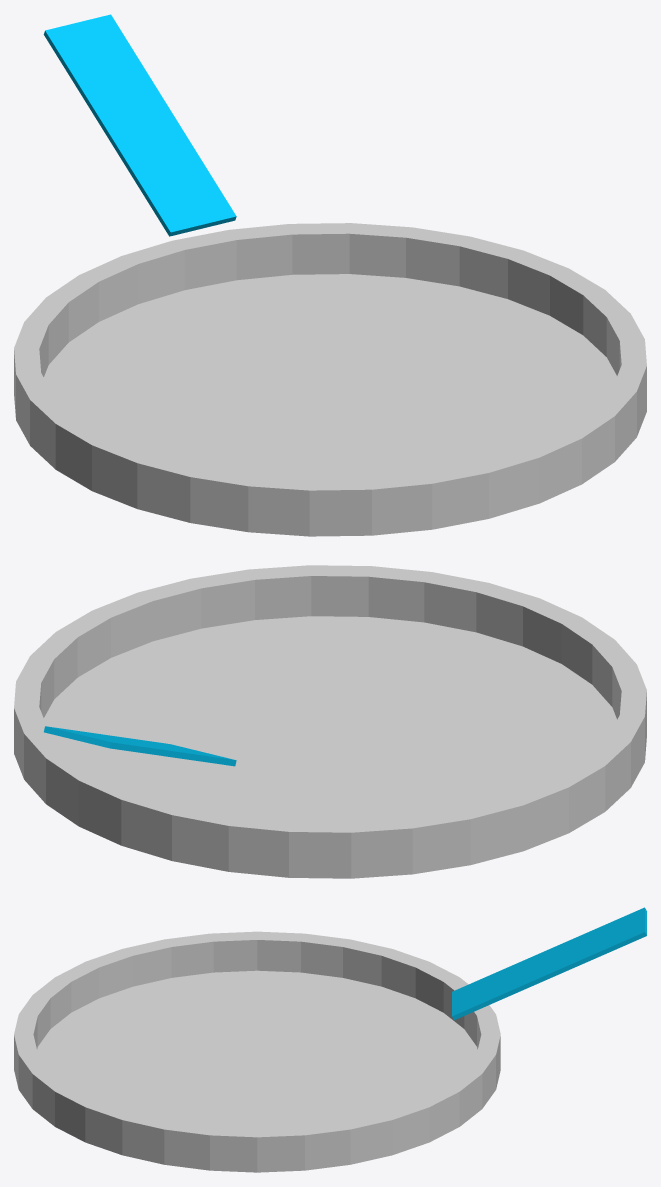
The model's file is kids_playground_detailed.glb.
The picture shows the model from 3 angles, top to bottom: view 1: azimuth 30°, elevation 25°; view 2: azimuth 150°, elevation 25°; view 3: azimuth 270°, elevation 25°; orthographic projection. The views are drawn at different scales.
Visible parts, largest first — view 1: Cylinder, Cube; view 2: Cylinder, Cube; view 3: Cylinder, Cube.
Part boxes in pixels (bbox=[...]): Cylinder: bbox=[14, 223, 646, 536]; Cube: bbox=[43, 14, 236, 236]; Cylinder: bbox=[14, 565, 646, 878]; Cube: bbox=[44, 726, 236, 766]; Cylinder: bbox=[14, 931, 500, 1172]; Cube: bbox=[452, 907, 646, 1020].
Bounding box in the file's own units: 5 × 1.7 × 6.5.
